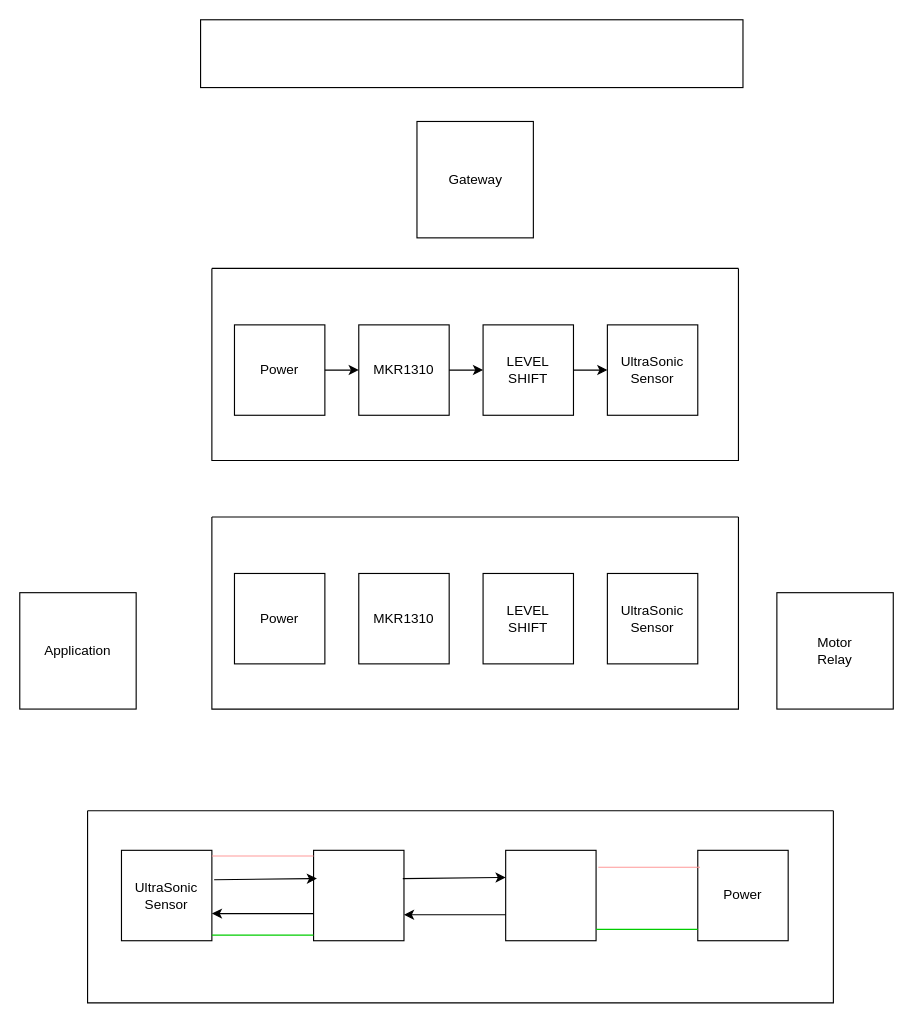
Some shapes in this 913 by 1023 pixel diagram are drawn without their labels. Here are the shapes that lost their labels. From the top down, the centre of each, then its label:
At (x=471, y=53): "Cloud".
At (x=358, y=895): "RS485".
At (x=550, y=895): "FT200".
